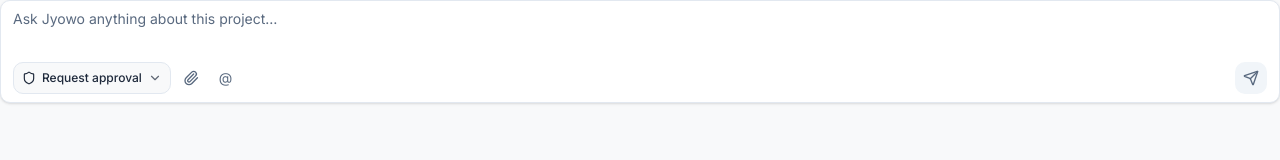
Test: Composer › keeps the editor reference combobox open while typing a reference query
Type "Use @comp" into the text box with placeholder "Ask Jyowo anything about this project…".
click(640, 31); type("Use @comp")  # box 13,9 -> 1267,53
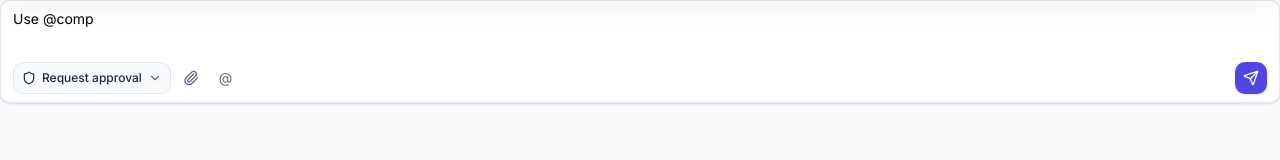
Press Enter in the text box with placeholder "Ask Jyowo anything about this project…", box 13,9 -> 1267,53
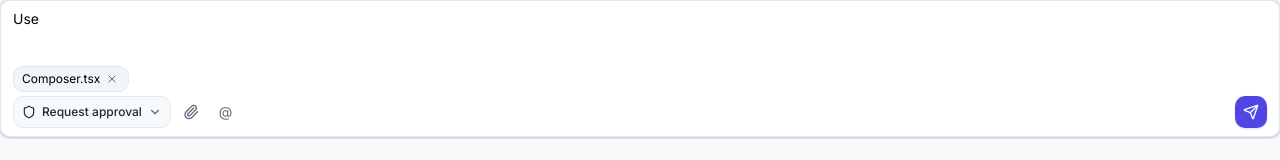
Result: the text "Composer.tsx" is shown at 22,71 -> 100,87
Result: the text box with placeholder "Ask Jyowo anything about this project…" holds "Use " at 13,9 -> 1267,53
